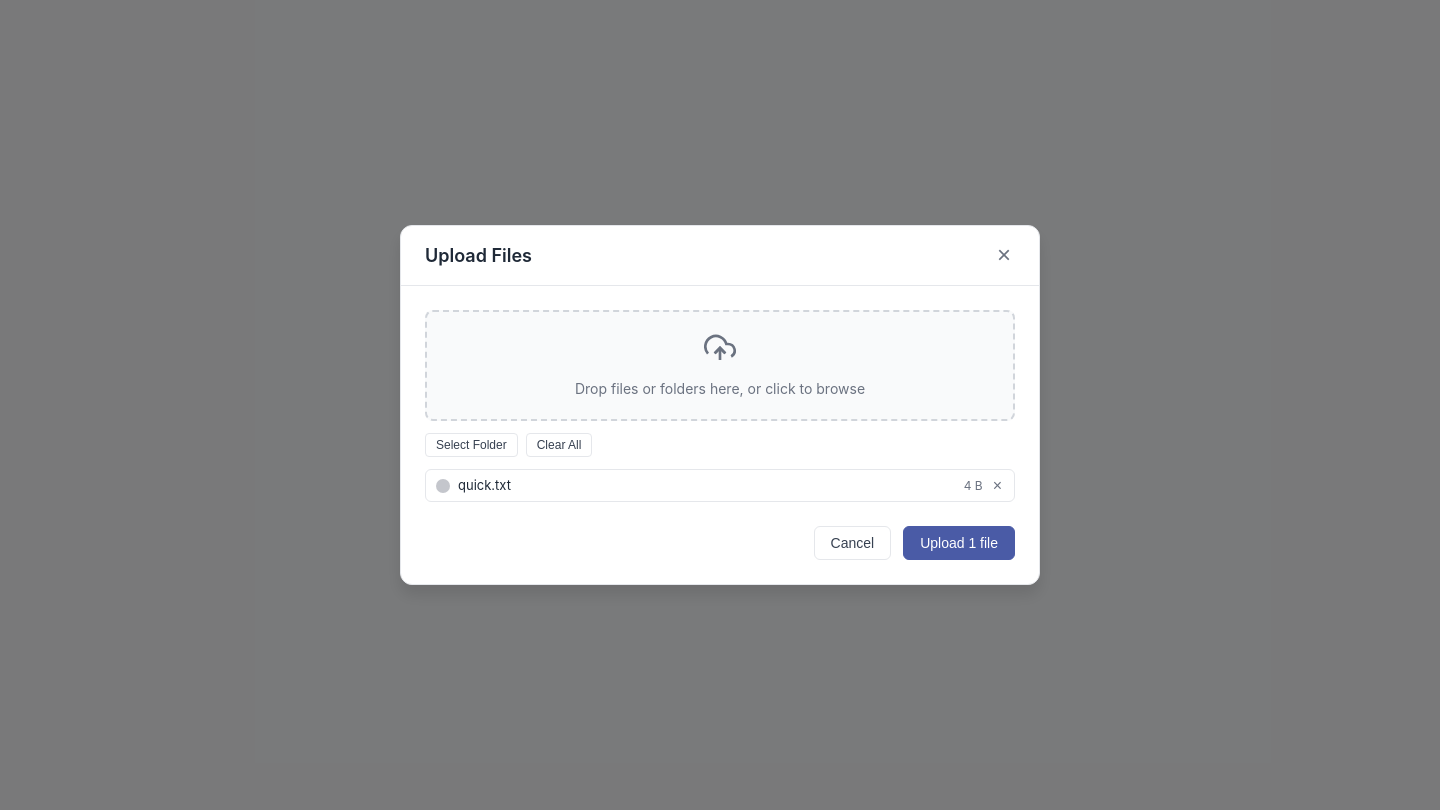
UploadFileModal › transfer speed › stops its timers once uploads finish
The width and height of the screenshot is (1440, 810).
Earlier steps of the test are not shown.
Click the button "Upload 1 file".
click(959, 543)  # box [903, 526, 1015, 560]
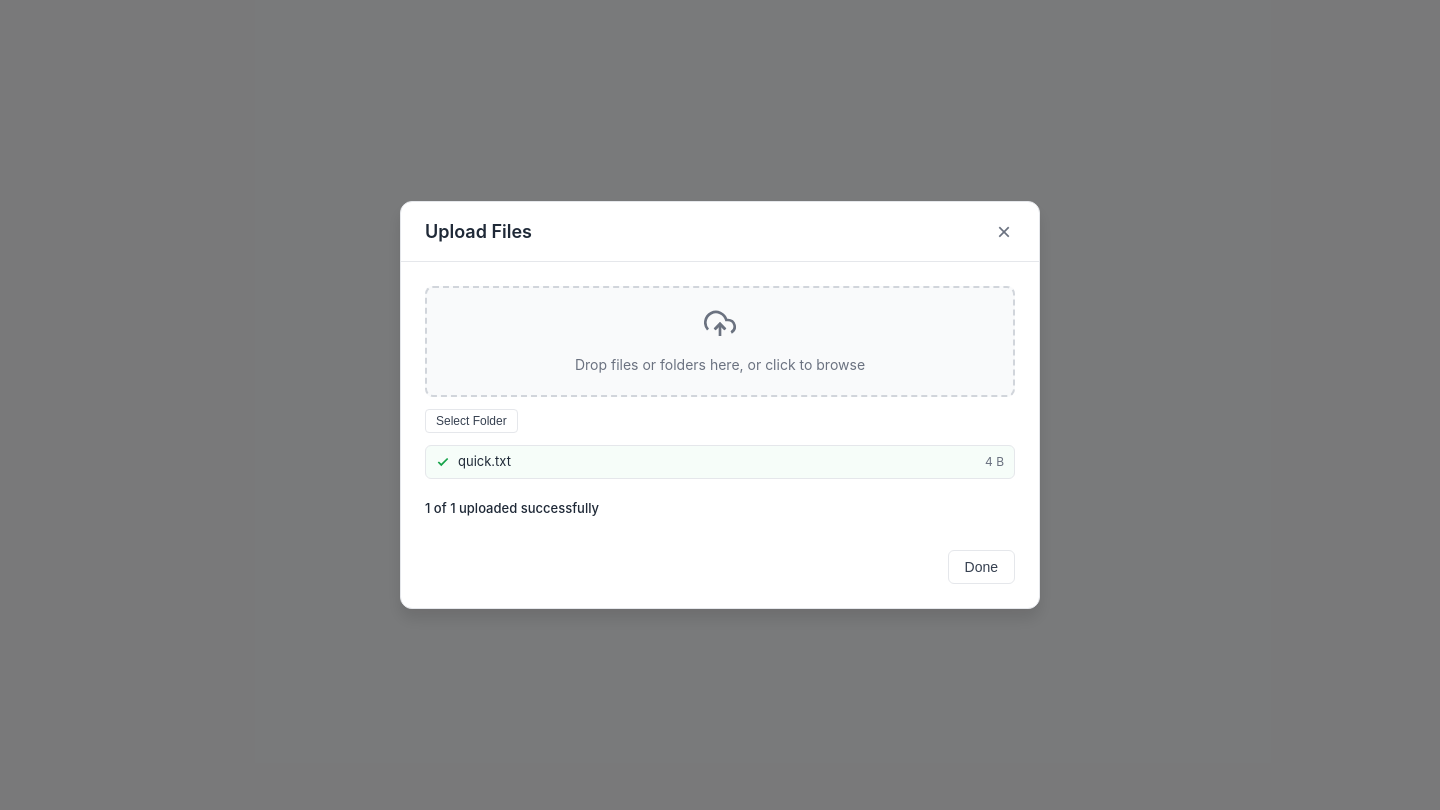
Check: the text "1 of 1 uploaded successfully" is shown, box [425, 500, 599, 516]
